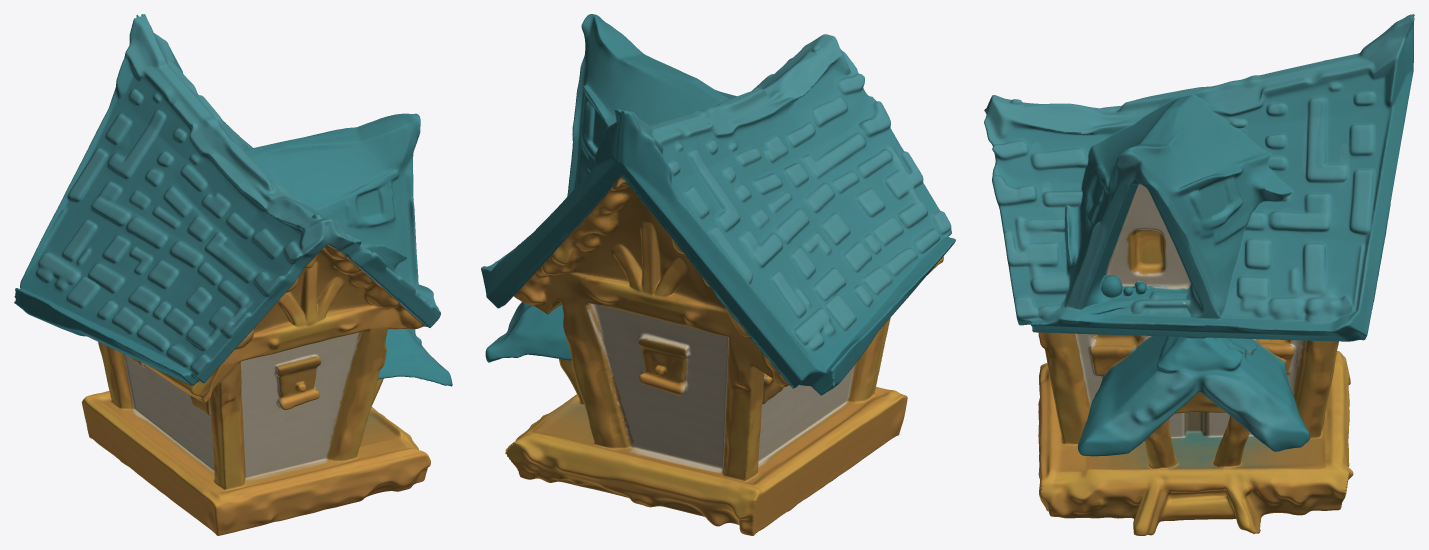
File: resHouse_05.fbx
3 views of the same model, side by side, from view 1: azimuth 30°, elevation 25°; view 2: azimuth 150°, elevation 25°; view 3: azimuth 270°, elevation 25° (orthographic). The views are drawn at different scales.
Visible parts, largest first — view 1: tripo_node_524d627a-2276-4757-8739-ed75e79d1ed0; view 2: tripo_node_524d627a-2276-4757-8739-ed75e79d1ed0; view 3: tripo_node_524d627a-2276-4757-8739-ed75e79d1ed0.
Boxes of the visible parts, box(x1,y1,x2,y2) form: tripo_node_524d627a-2276-4757-8739-ed75e79d1ed0: box(14, 14, 452, 535); tripo_node_524d627a-2276-4757-8739-ed75e79d1ed0: box(481, 14, 955, 535); tripo_node_524d627a-2276-4757-8739-ed75e79d1ed0: box(984, 14, 1414, 535).
Bounding box in the file's own units: 86.51 × 98.41 × 87.4.
1 material, 1 textured.
